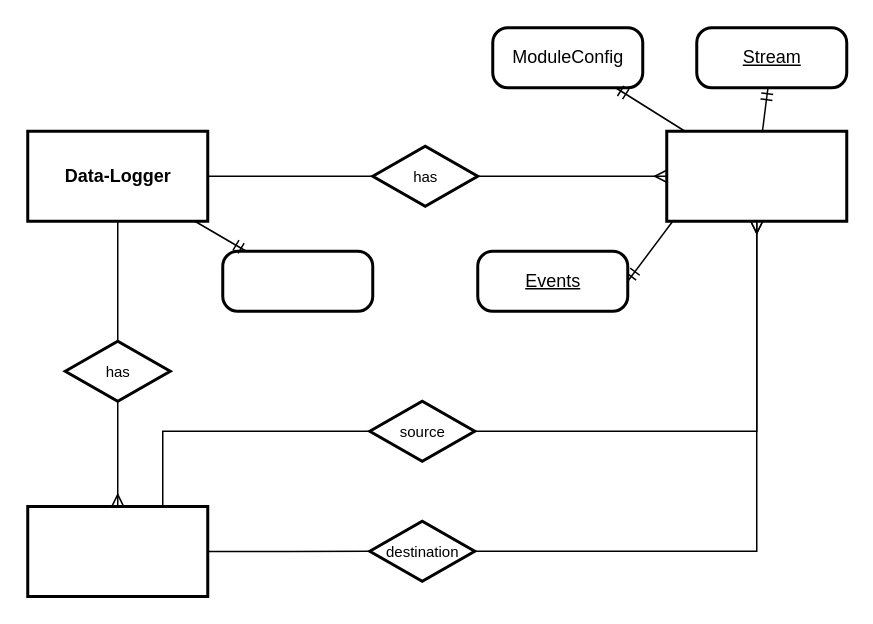
Image size: 873x624. Some labels were removed from this diagram. The shapes that lost their labels are listed below. From the top down, each one's centre as x and y in pixels, then its label:
At pixel 756 175: "Module".
At pixel 297 280: "Configuration".
At pixel 117 550: "Route".
